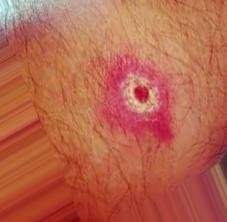Spider: (93, 56, 188, 144)
